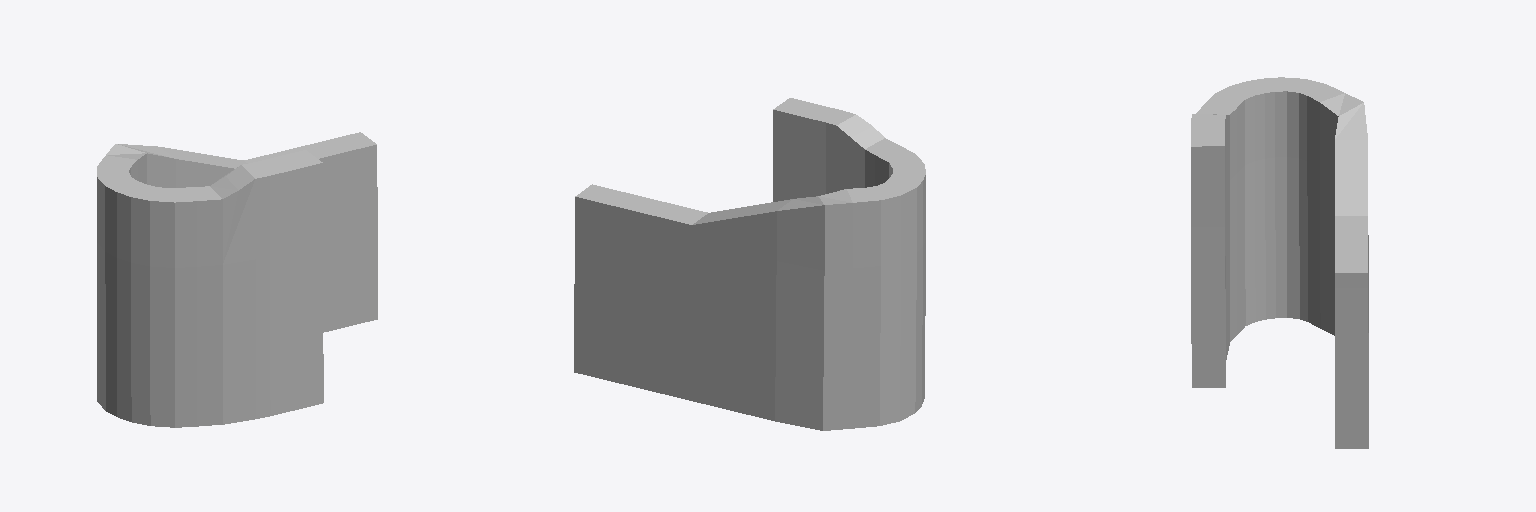
File: Baseramp.obj
3 views of the same model, side by side, from view 1: azimuth 30°, elevation 25°; view 2: azimuth 150°, elevation 25°; view 3: azimuth 270°, elevation 25° (orthographic).
Visible parts, largest first — view 1: Cube; view 2: Cube; view 3: Cube.
Boxes of the visible parts, x1,y1,x2,y2 form: Cube: [97, 132, 377, 427]; Cube: [574, 98, 925, 430]; Cube: [1191, 77, 1368, 448].
Size of the model in its own units: 20.53 by 15.83 by 10.58.